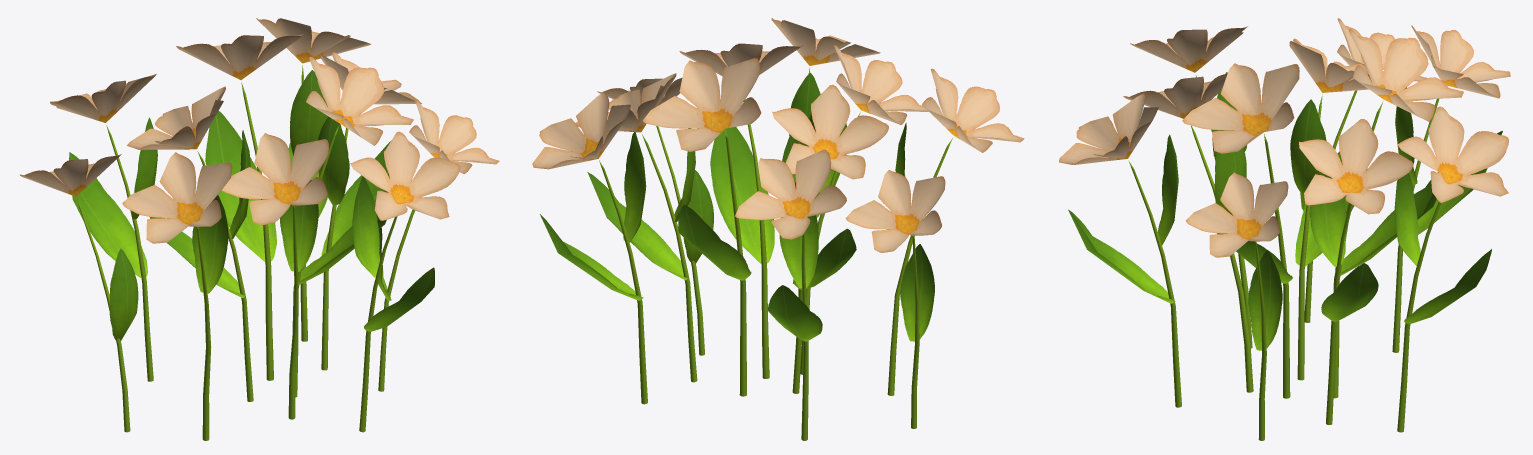
Rendered from nature_flower_1_group.glb.
The picture shows the model from 3 angles, left to right: view 1: azimuth 30°, elevation 25°; view 2: azimuth 150°, elevation 25°; view 3: azimuth 270°, elevation 25°; orthographic projection. The views are drawn at different scales.
Parts seen in each view (by area): view 1: nature_flower_1_group; view 2: nature_flower_1_group; view 3: nature_flower_1_group.
Part boxes in pixels (box(x1,y1,x2,y2)): nature_flower_1_group: box(19, 18, 499, 440); nature_flower_1_group: box(532, 18, 1024, 440); nature_flower_1_group: box(1059, 18, 1510, 440).
Bounding box in the file's own units: 183 × 150 × 172.
2 materials, 2 textured.
